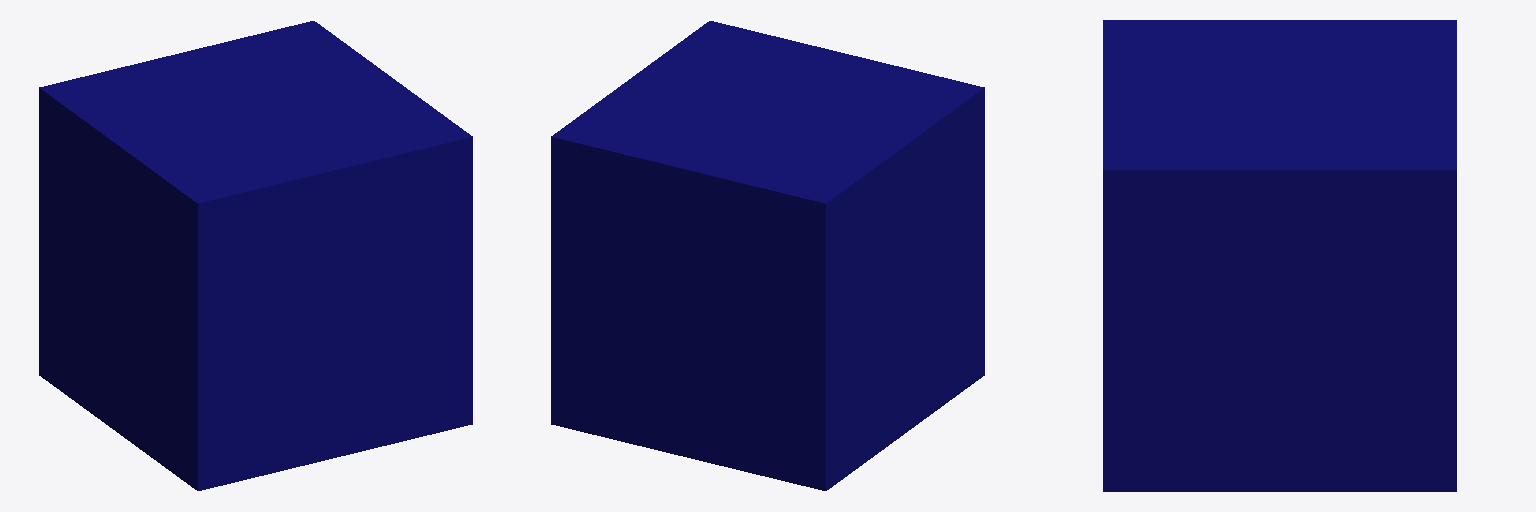
URDF robot description (kuka_iiwa):
<?xml version="1.0" ?>
<!--Autogenerated by "taco/models/sdf2urdf" converter from "../kuka_iiwa/kuka_iiwa.sdf"-->
<robot name="kuka_iiwa">
    <link name="base_link">
        <inertial>
            <origin xyz="0 0 0.14" rpy="0 -0 0" />
            <mass value="4" />
            <inertia ixx="0.4" iyy="0.4" izz="0.4" ixy="0" ixz="0" iyz="0" />
        </inertial>
        <visual>
            <origin xyz="0 0 0" rpy="0 -0 0" />
            <geometry>
                <mesh filename="../../../../examples/models/iiwa7/meshes/base.obj" scale="1 1 1" />
            </geometry>
        </visual>
        <!-- <collision>
            <origin xyz="0 0 0" rpy="0 -0 0" />
            <geometry>
                <mesh filename="../../../../examples/models/iiwa7/meshes/base.obj" scale="1 1 1" />
            </geometry>
        </collision> -->
    </link>
    <link name="link0">
        <inertial>
            <origin xyz="0 0 0.14" rpy="0 -0 0" />
            <mass value="4" />
            <inertia ixx="0.4" iyy="0.4" izz="0.4" ixy="0" ixz="0" iyz="0" />
        </inertial>
        <visual>
            <origin xyz="0 0 0" rpy="0 -0 0" />
            <geometry>
                <mesh filename="../../../../examples/models/iiwa7/meshes/link0.obj" scale="1 1 1" />
            </geometry>
        </visual>
        <!-- <collision>
            <origin xyz="0 0 0" rpy="0 -0 0" />
            <geometry>
                <mesh filename="../../../../examples/models/iiwa7/meshes/link0.obj" scale="1 1 1" />
            </geometry>
        </collision> -->
    </link>
    <link name="link1">
        <inertial>
            <origin xyz="0 0 0.14" rpy="0 -0 0" />
            <mass value="4" />
            <inertia ixx="0.4" iyy="0.4" izz="0.4" ixy="0" ixz="0" iyz="0" />
        </inertial>
        <visual>
            <origin xyz="0 0 0" rpy="0 -0 0" />
            <geometry>
                <mesh filename="../../../../examples/models/iiwa7/meshes/link1.obj" scale="1 1 1" />
            </geometry>
        </visual>
        <!-- <collision>
            <origin xyz="0 0 0" rpy="0 -0 0" />
            <geometry>
                <mesh filename="../../../../examples/models/iiwa7/meshes/link1.obj" scale="1 1 1" />
            </geometry>
        </collision> -->
    </link>
    <link name="link2">
        <inertial>
            <origin xyz="0 0 0.14" rpy="0 -0 0" />
            <mass value="4" />
            <inertia ixx="0.4" iyy="0.4" izz="0.4" ixy="0" ixz="0" iyz="0" />
        </inertial>
        <visual>
            <origin xyz="0 0 0" rpy="0 -0 0" />
            <geometry>
                <mesh filename="../../../../examples/models/iiwa7/meshes/link2.obj" scale="1 1 1" />
            </geometry>
        </visual>
        <!-- <collision>
            <origin xyz="0 0 0" rpy="0 -0 0" />
            <geometry>
                <mesh filename="../../../../examples/models/iiwa7/meshes/link2.obj" scale="1 1 1" />
            </geometry>
        </collision> -->
    </link>
    <link name="link3">
        <inertial>
            <origin xyz="0 0 0.14" rpy="0 0 0" />
            <mass value="4" />
            <inertia ixx="0.4" iyy="0.4" izz="0.4" ixy="0" ixz="0" iyz="0" />
        </inertial>
        <visual>
            <origin xyz="0 0 0" rpy="0 0 3.1415926535897" />
            <geometry>
                <mesh filename="../../../../examples/models/iiwa7/meshes/link3.obj" scale="1 1 1" />
            </geometry>
        </visual>
        <!-- <collision>
            <origin xyz="0 0 0" rpy="0 -0 0" />
            <geometry>
                <mesh filename="../../../../examples/models/iiwa7/meshes/link3.obj" scale="1 1 1" />
            </geometry>
        </collision> -->
    </link>
    <link name="link4">
        <inertial>
            <origin xyz="0 0 0.14" rpy="0 0 0" />
            <mass value="3" />
            <inertia ixx="0.3" iyy="0.3" izz="0.3" ixy="0" ixz="0" iyz="0" />
        </inertial>
        <visual>
            <origin xyz="0 0 0" rpy="0 0 0" />
            <geometry>
                <mesh filename="../../../../examples/models/iiwa7/meshes/link4.obj" scale="1 1 1" />
            </geometry>
        </visual>
        <!-- <collision>
            <origin xyz="0 0 0" rpy="0 -0 0" />
            <geometry>
                <mesh filename="../../../../examples/models/iiwa7/meshes/link4.obj" scale="1 1 1" />
            </geometry>
        </collision> -->
    </link>
    <link name="link5">
        <inertial>
            <origin xyz="0 0 0.14" rpy="0 0 0" />
            <mass value="2" />
            <inertia ixx="0.2" iyy="0.2" izz="0.2" ixy="0" ixz="0" iyz="0" />
        </inertial>
        <visual>
            <origin xyz="0 -0.06 0" rpy="0 0 0" />
            <geometry>
                <mesh filename="../../../../examples/models/iiwa7/meshes/link5.obj" scale="1 1 1" />
            </geometry>
        </visual>
        <!-- <collision>
            <origin xyz="0 -0.06 0" rpy="0 -0 0" />
            <geometry>
                <mesh filename="../../../../examples/models/iiwa7/meshes/link5.obj" scale="1 1 1" />
            </geometry>
        </collision> -->
    </link>
    <link name="link6">
        <inertial>
            <origin xyz="0 0 0.03" rpy="0 0 0" />
            <mass value="1" />
            <inertia ixx="0.1" iyy="0.1" izz="0.1" ixy="0" ixz="0" iyz="0" />
        </inertial>
        <visual>
            <origin xyz="0 0 0" rpy="0 0 0" />
            <geometry>
                <mesh filename="../../../../examples/models/iiwa7/meshes/link6.obj" scale="1 1 1" />
            </geometry>
        </visual>
        <visual>
            <origin xyz="0 0 0.08" rpy="0 0 0" />
            <geometry>
                <box size="0.08 0.08 0.08" />
            </geometry>
            <material name="material_ee">
                <color rgba="0.1 0.1 0.5 1.0" />
            </material>
        </visual>
<!--         <collision>
            <origin xyz="0 0 0" rpy="0 0 0" />
            <geometry>
                <mesh filename="../../../../examples/models/iiwa7/meshes/link6.obj" scale="1 1 1" />
            </geometry>
        </collision> -->
        <collision>
            <origin xyz="0 0 0.08" rpy="0 0 0" />
            <geometry>
                <box size="0.08 0.08 0.08" />
            </geometry>
        </collision>
    </link>
    <joint name="j0" type="revolute">
        <parent link="base_link" />
        <child link="link0" />
        <origin xyz="0.000000 0.000000 0.155767" rpy="0.000000 0.000000 0.000000" />
        <axis xyz="0 0 1" />
        <calibration falling="90.0" />
        <limit lower="-2.967" upper="2.967" effort="176" velocity="1.7104" />
    </joint>
    <joint name="j1" type="revolute">
        <parent link="link0" />
        <child link="link1" />
        <origin xyz="0.000000 0.000000 0.182500" rpy="0.000000 0.000000 0.000000" />
        <axis xyz="0 1 0" />
        <calibration falling="-30.0" />
        <limit lower="-2.0944" upper="2.0944" effort="176" velocity="1.7104" />
    </joint>
    <joint name="j2" type="revolute">
        <parent link="link1" />
        <child link="link2" />
        <origin xyz="0.000000 0.000000 0.185000" rpy="0.000000 0.000000 0.000000" />
        <axis xyz="0 0 1" />
        <limit lower="-2.967" upper="2.967" effort="110" velocity="1.7453" />
    </joint>
    <joint name="j3" type="revolute">
        <parent link="link2" />
        <child link="link3" />
        <origin xyz="0.000000 0.000000 0.217000" rpy="0.000000 0.000000 3.1415926535897" />
        <axis xyz="0 1 0" />
        <calibration falling="60.0" />
        <limit lower="-2.0944" upper="2.0944" effort="110" velocity="2.2689" />
    </joint>
    <joint name="j4" type="revolute">
        <parent link="link3" />
        <child link="link4" />
        <origin xyz="0.000000 0.000000 0.186000" rpy="0.000000 0.000000 -3.1415926535897" />
        <axis xyz="0 0 1" />
        <limit lower="-2.967" upper="2.967" effort="110" velocity="2.4434" />
    </joint>
    <joint name="j5" type="revolute">
        <parent link="link4" />
        <child link="link5" />
        <origin xyz="0.000000 0.000000 0.217003" rpy="0.000000 0.000000 0.000000" />
        <axis xyz="0 1 0" />
        <calibration falling="-90.0" />
        <limit lower="-2.0944" upper="2.0944" effort="40" velocity="3.1416" />
    </joint>
    <joint name="j6" type="revolute">
        <parent link="link5" />
        <child link="link6" />
        <origin xyz="0.000000 0.000000 0.081000" rpy="0.000000 0.000000 0.000000" />
        <axis xyz="0 0 1" />
        <limit lower="-3.0543" upper="3.0543" effort="40" velocity="3.1416" />
    </joint>
</robot>

--- What the picture shows (computed from the rendered views, not written in the file) ---
The picture shows the robot from 3 angles, left to right: view 1: azimuth 30°, elevation 25°; view 2: azimuth 150°, elevation 25°; view 3: azimuth 270°, elevation 25°; orthographic projection.
Robot: kuka_iiwa — 8 links, 7 joints (7 revolute); root link base_link; default pose: every joint at zero.
Links seen in each view (by area): view 1: link6; view 2: link6; view 3: link6.
Boxes of the visible links, x1,y1,x2,y2 form: link6: (39, 21, 472, 490); link6: (551, 21, 984, 490); link6: (1103, 20, 1456, 491).
Size in the robot's own frame: 0.08 by 0.08 by 0.08 metres.
Geometry: only primitive shapes (box / cylinder / sphere) drawn; not drawn: 8 mesh visuals (reference in a form the renderer does not follow).